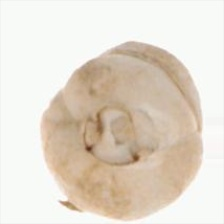L3: (78, 101, 148, 167)
L4: (40, 41, 203, 221)
